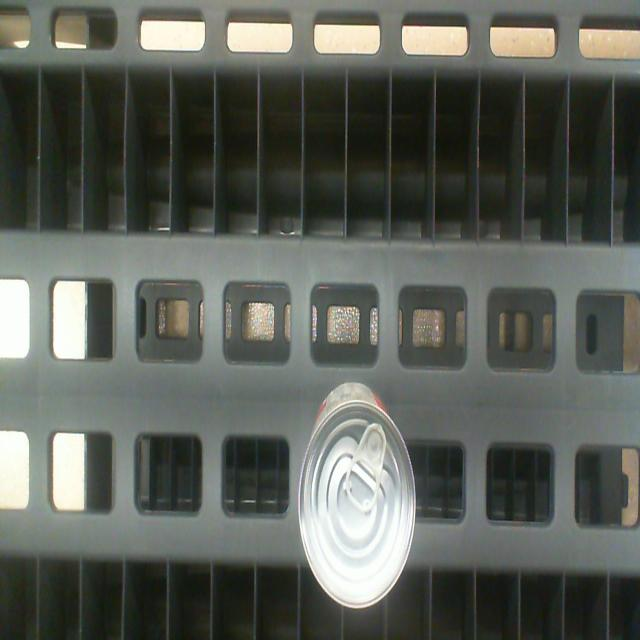can: (299, 401, 417, 611)
